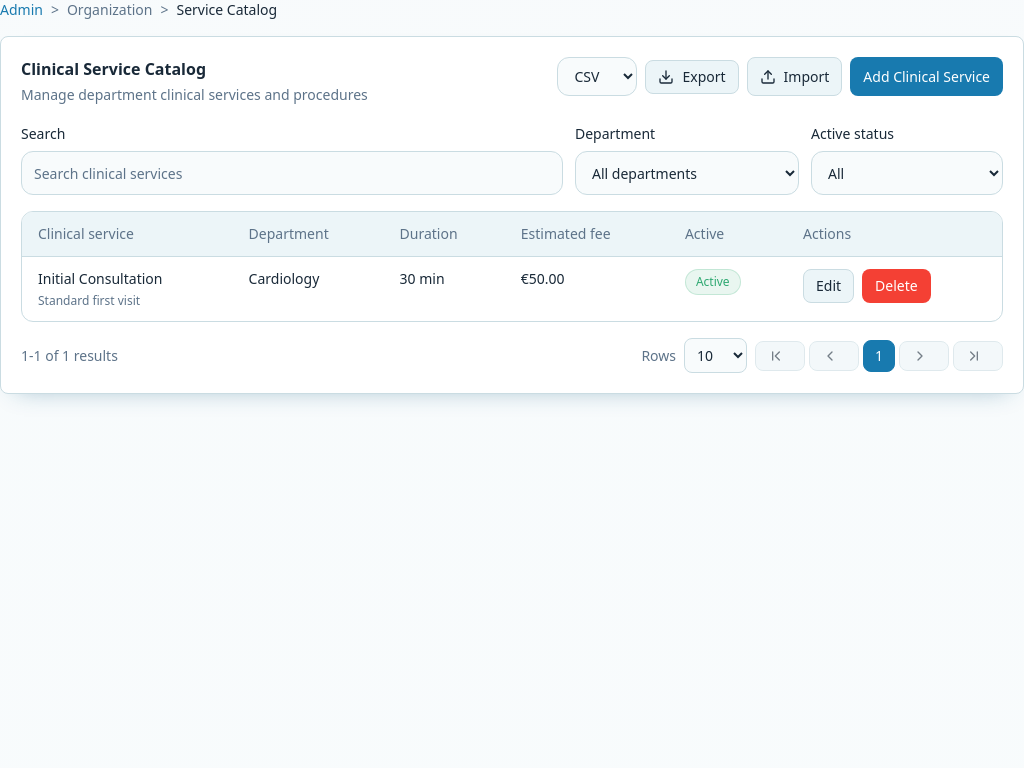
ServicesPage › creates a service from the modal form
Expected: the text "Initial Consultation" is shown, 38,269 -> 162,288
Click the button "Add Clinical Service": x=927, y=76 850,57 -> 1003,96
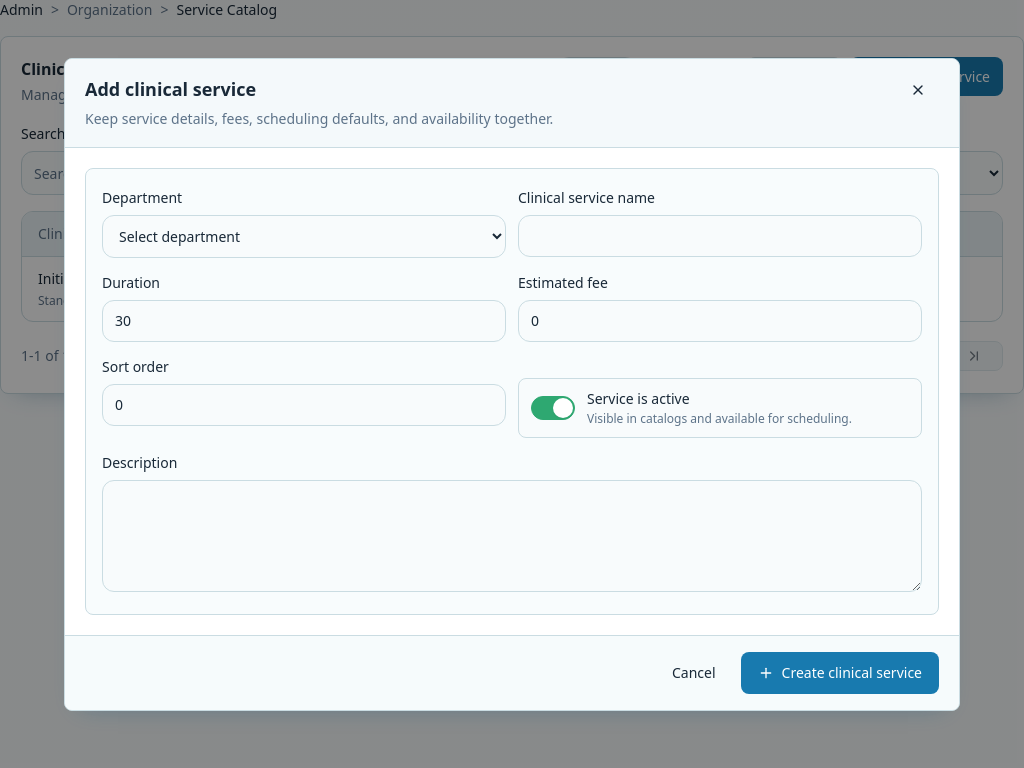
Select "Dermatology" in the dropdown with id "service-department-id": x=304, y=236 102,214 -> 506,258
In the field with id "service-name": x=720, y=236 518,214 -> 922,256, type "Follow-up Visit"
Replace the text in the number field with id "service-duration" with "20": x=304, y=320 102,300 -> 506,342
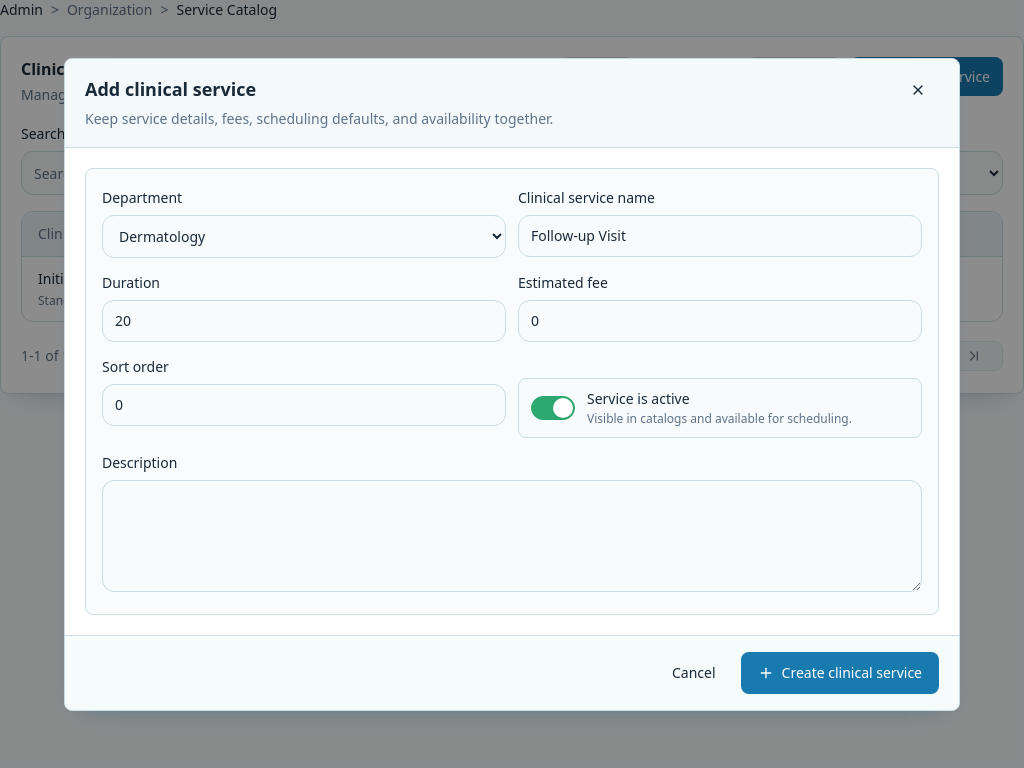
Replace the text in the number field with id "service-price" with "35": x=720, y=320 518,300 -> 922,342
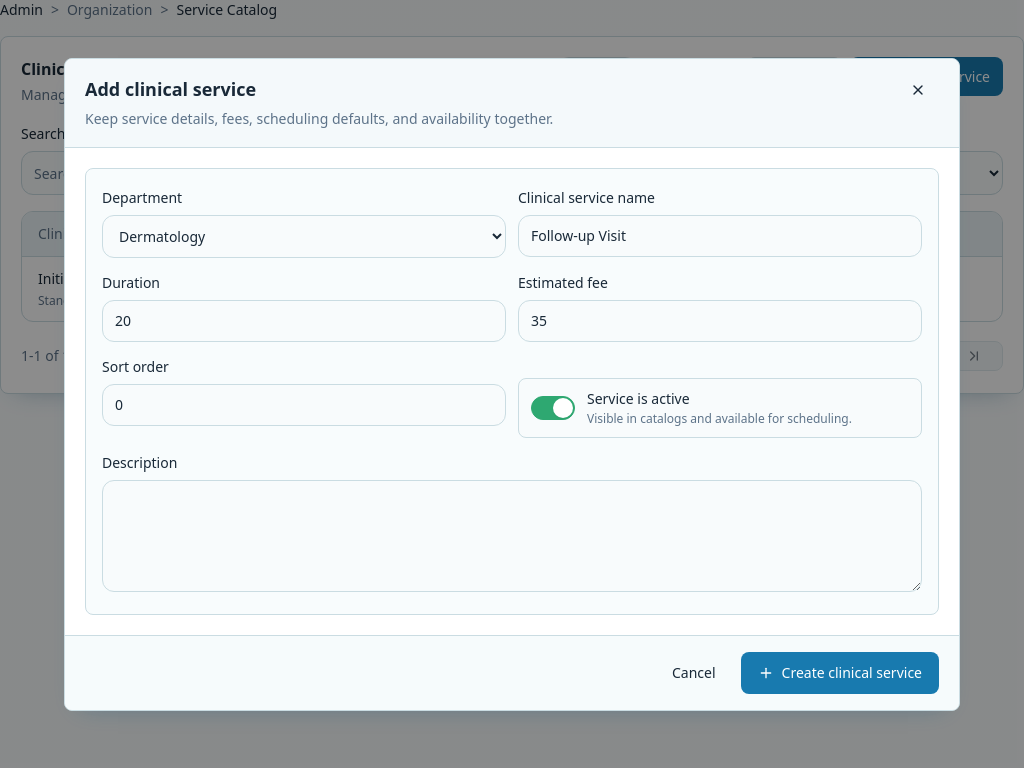
Replace the text in the number field with id "service-sort-order" with "1": x=304, y=404 102,384 -> 506,426
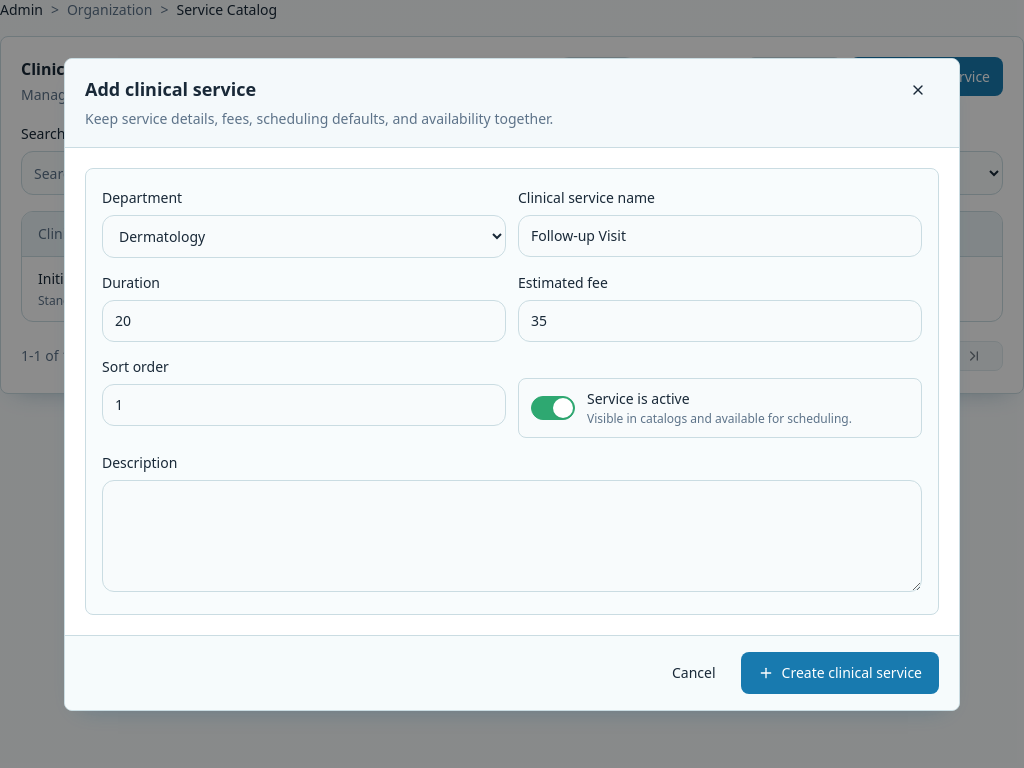
In the text box with id "service-description": x=512, y=536 102,480 -> 922,592, type "Shorter visit"
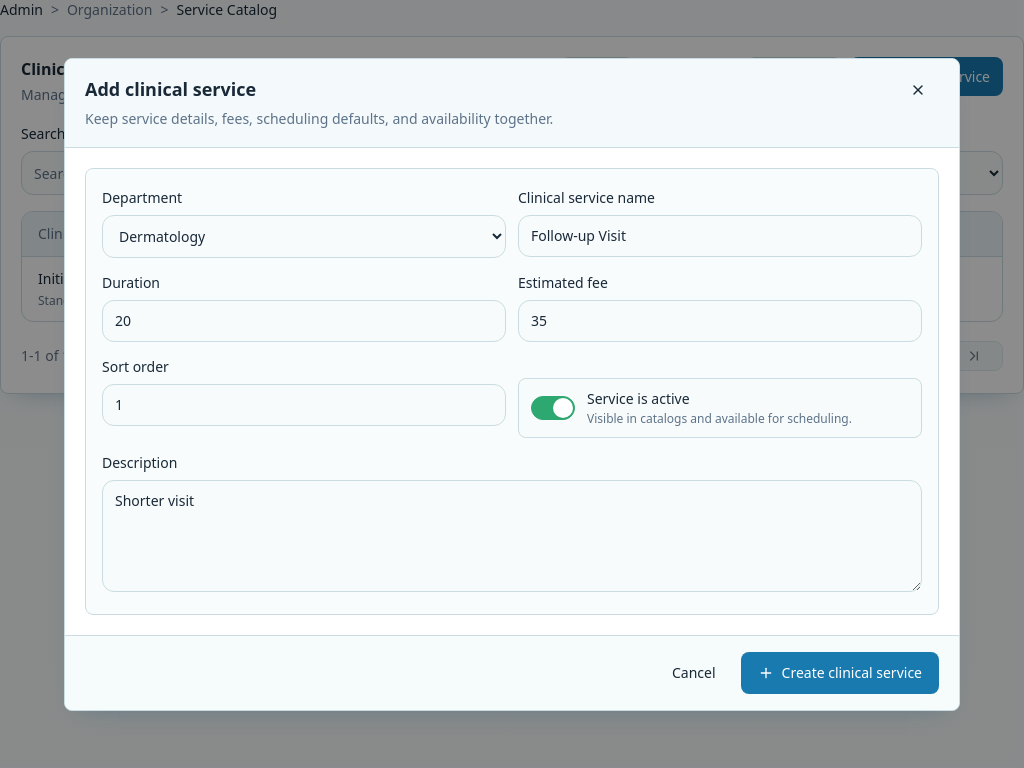
Click the button "Create clinical service": x=840, y=672 740,652 -> 939,694
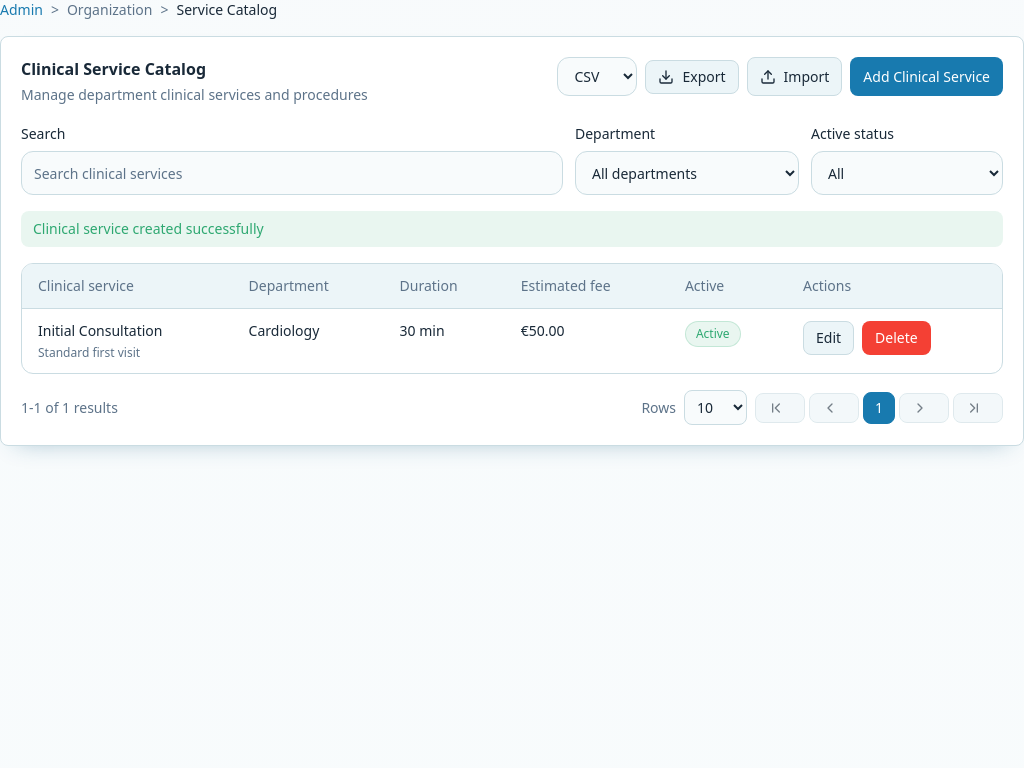
Now the text "Clinical service created successfully" is shown, box 21,211 -> 1003,247
